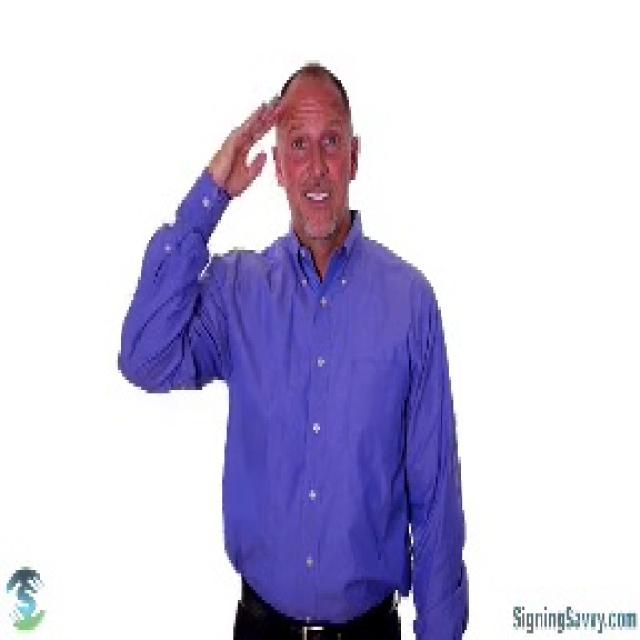hello: (207, 89, 372, 234)
